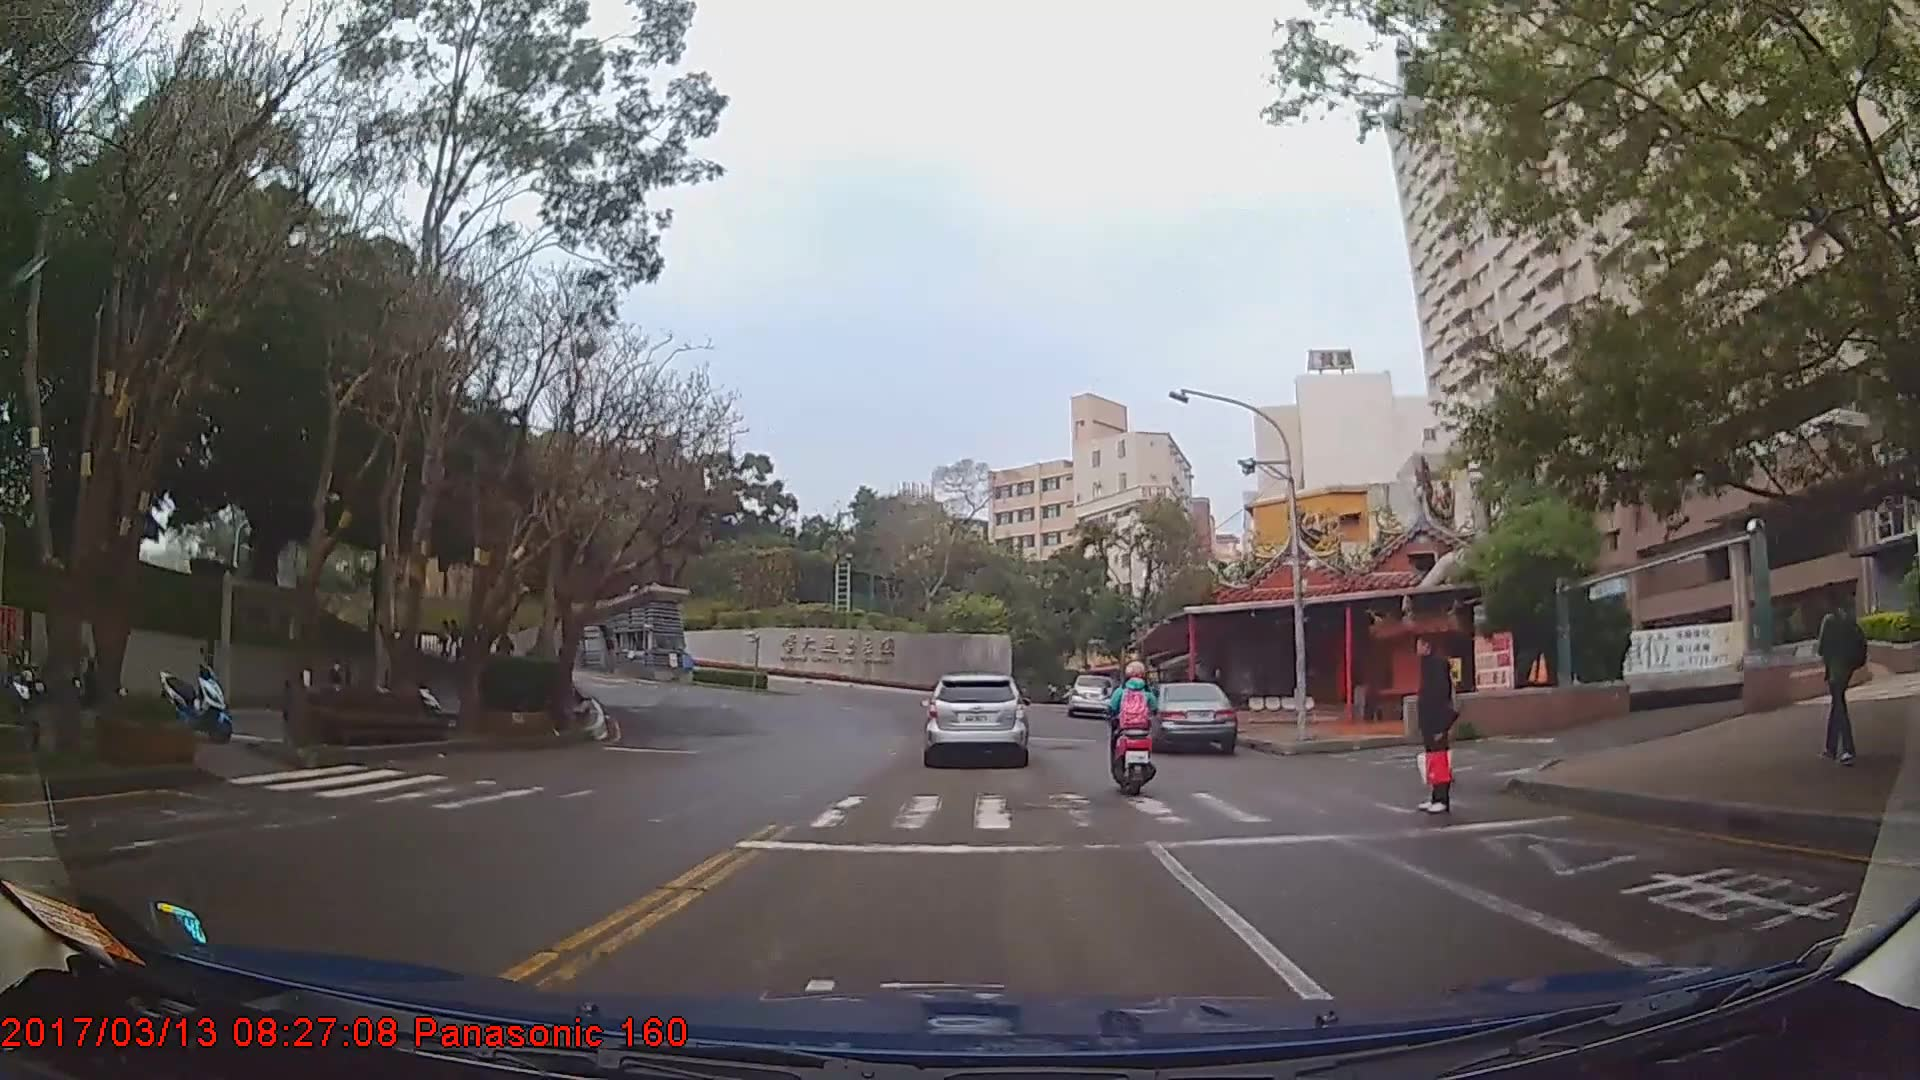pedestrian: (1814, 585, 1874, 767), (1414, 627, 1464, 818)
rider: (1105, 667, 1167, 807)
vehicle: (924, 670, 1027, 767), (1139, 680, 1238, 752), (1068, 673, 1117, 717)
